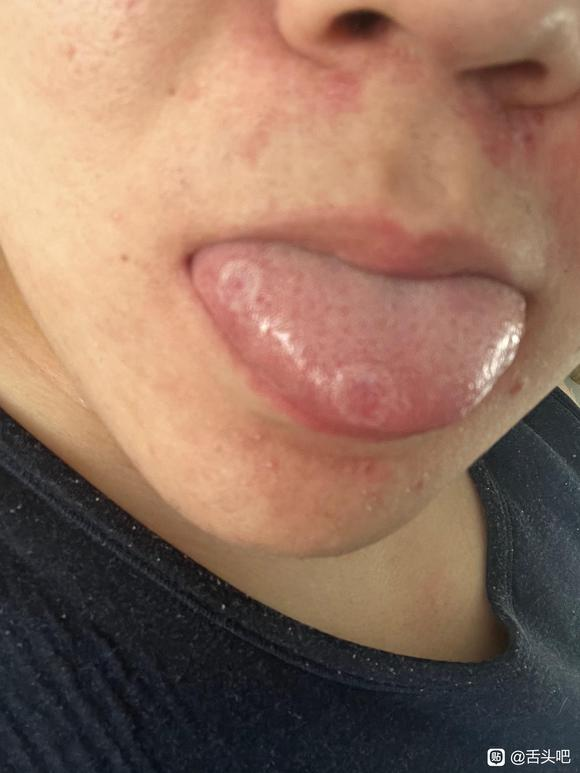baitaishe: (192, 237, 526, 438)
botaishe: (328, 354, 396, 431), (211, 256, 267, 317)
